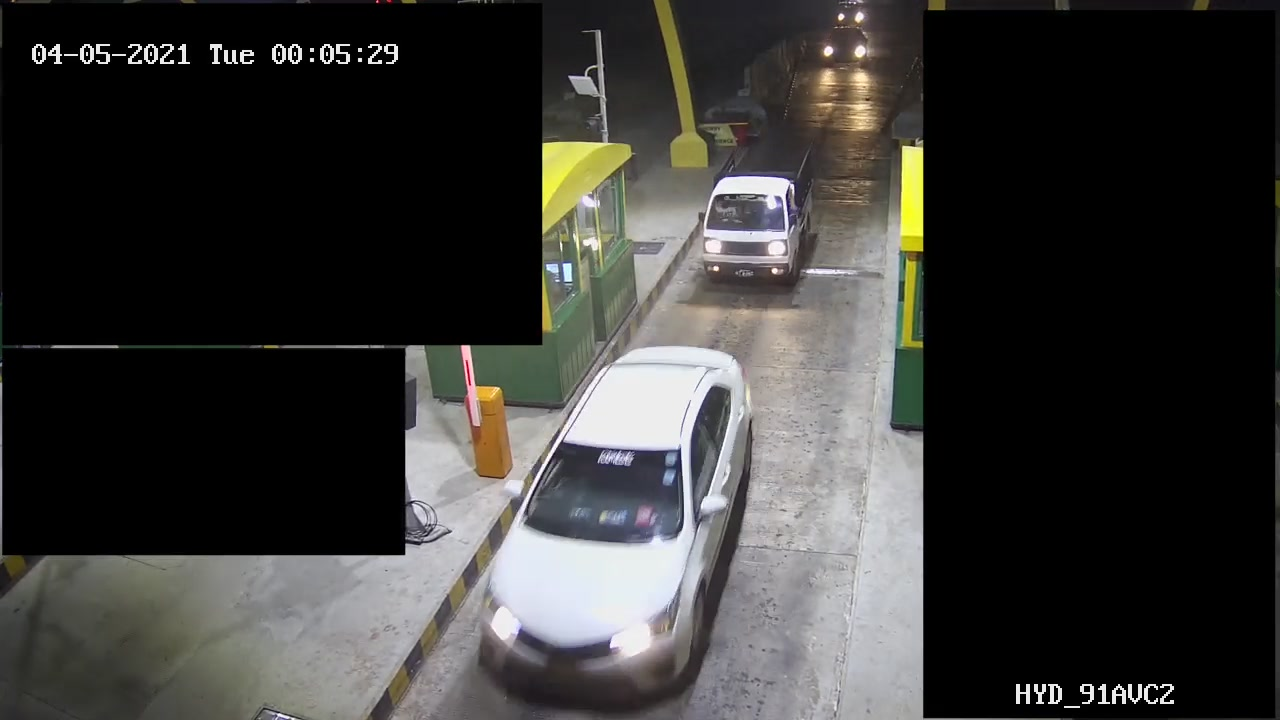F1: (467, 344, 792, 704), (684, 142, 828, 290)
